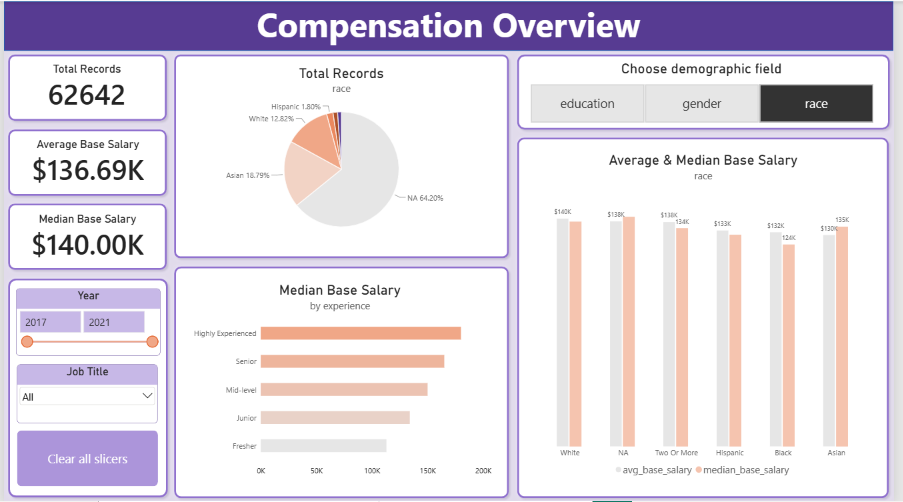

What the dashboard file says about the page in this screenshot:
{"tool":"powerbi","page":{"name":"Compensation Overview & Workforce Demographics","canvas":[1920,1080],"ordinal":0},"visuals":[{"type":"shape","box":[0,0,1918.4,106.6],"z":0},{"type":"shape","box":[0,106.6,360,161.1],"z":0,"group":"g1"},{"type":"shape","box":[358.1,105.7,739.9,457.3],"z":1000},{"type":"shape","box":[0,267.7,360,161.1],"z":1000,"group":"g1"},{"type":"shape","box":[1099,106.6,821.9,180],"z":2000},{"type":"shape","box":[0,428.7,360,161.1],"z":2000,"group":"g1"},{"type":"shape","box":[0,589.7,362.4,490.3],"z":3000},{"type":"shape","box":[1099,284.2,819.5,795.8],"z":4000},{"type":"shape","box":[358.1,563,739.9,517.7],"z":5000},{"type":"group","id":"g1","title":"Group 1","box":[0,106.6,360,483.2],"z":6000},{"type":"textbox","box":[0,0,1918.4,106.6],"z":7000},{"type":"cardVisual","title":"Average Base Salary","fields":{"Data":["fact_salary.avg_base_salary"]},"box":[18.9,293.7,323.6,107.9],"z":8000},{"type":"cardVisual","title":"Median Base Salary","fields":{"Data":["fact_salary.median_base_salary"]},"box":[28.4,454.7,304.2,107.9],"z":9000},{"type":"cardVisual","title":"Total Records","fields":{"Data":["fact_salary.headcount"]},"box":[23.7,132.6,310.6,107.9],"z":10000},{"type":"pieChart","title":"Total Records","fields":{"Category":["dim_demographic.race"],"Y":["fact_salary.headcount"]},"box":[381.8,123,692.5,416.3],"z":11000},{"type":"slicer","title":"Choose demographic field","fields":{"Values":["demographic_parameter.demographic_parameter"]},"box":[1115.3,127.3,778.7,135.9],"z":12000},{"type":"clusteredColumnChart","title":"Average & Median Base Salary","fields":{"Category":["dim_demographic.race"],"Y":["fact_salary.avg_base_salary","fact_salary.median_base_salary"]},"box":[1131.1,311.2,756.3,733.6],"z":13000},{"type":"barChart","title":"Median Base Salary ","fields":{"Category":["fact_salary.exp_level"],"Y":["fact_salary.median_base_salary"]},"box":[381.6,590.5,685.9,454.3],"z":14000},{"type":"slicer","title":"Year","fields":{"Values":["dim_calendar.year"]},"box":[25,620.1,311.2,145.4],"z":15000},{"type":"slicer","title":"Job Title","fields":{"Values":["dim_job.title"]},"box":[28.9,782.8,303.3,127.1],"z":16000},{"type":"actionButton","box":[28,925.4,304.2,120.8],"z":17000}]}

Visuals, with their boxes in screenshot pixels (x1, y1, x2, y2), scaled from the page's 1920x1080 canvas onto the 903x502 screenshot:
shape: 0,0,902,50
shape: 0,50,169,124
shape: 168,49,516,262
shape: 0,124,169,199
shape: 517,50,902,133
shape: 0,199,169,274
shape: 0,274,170,501
shape: 517,132,902,501
shape: 168,262,516,501
"Group 1" group: 0,50,169,274
textbox: 0,0,902,50
"Average Base Salary" cardVisual: 9,137,161,187
"Median Base Salary" cardVisual: 13,211,156,262
"Total Records" cardVisual: 11,62,157,112
"Total Records" pieChart: 180,57,505,251
"Choose demographic field" slicer: 525,59,891,122
"Average & Median Base Salary" clusteredColumnChart: 532,145,888,486
"Median Base Salary " barChart: 179,274,502,486
"Year" slicer: 12,288,158,356
"Job Title" slicer: 14,364,156,423
actionButton: 13,430,156,486
